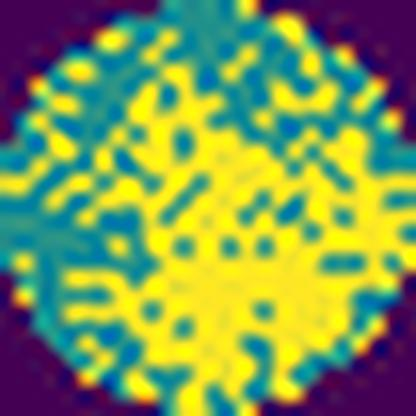Random: (44, 29, 415, 416)
